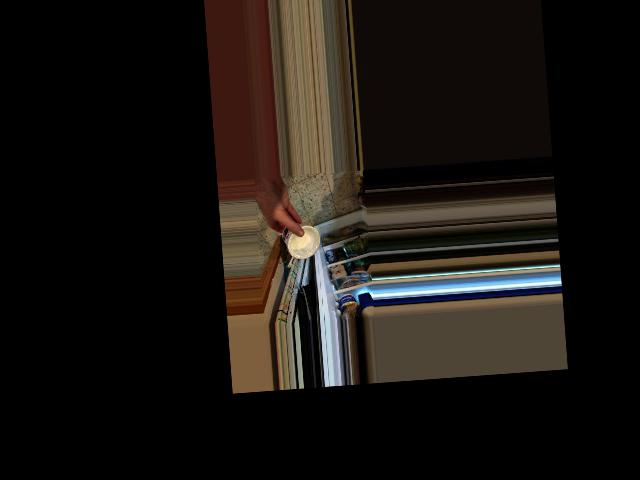cotage: (278, 221, 321, 263)
